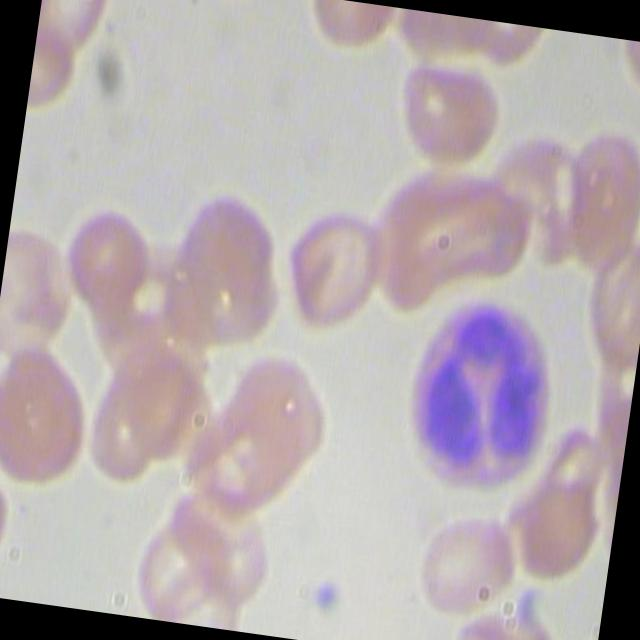RBC: (152, 178, 294, 350), (214, 340, 337, 492), (275, 194, 395, 334), (391, 39, 511, 178), (0, 334, 102, 486), (550, 120, 640, 288), (409, 503, 532, 619), (126, 500, 236, 622), (506, 460, 612, 586), (58, 200, 158, 305), (36, 0, 115, 59)
WBC: (382, 283, 584, 512), (312, 574, 348, 614)
